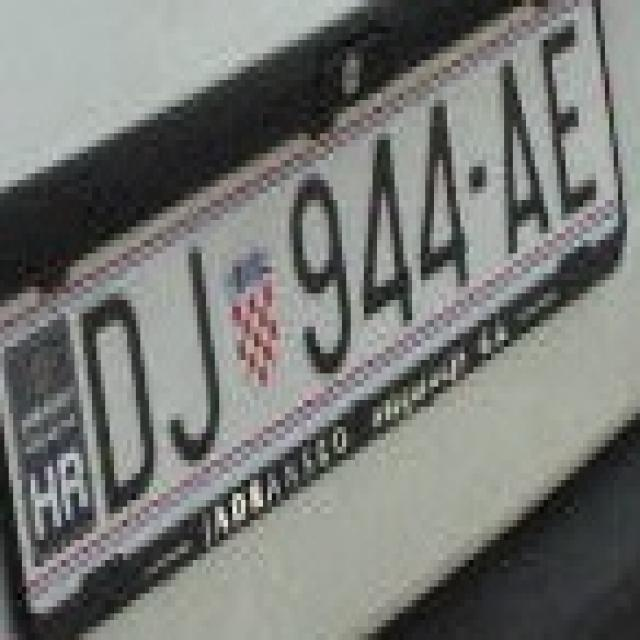4: (351, 126, 416, 346)
9: (280, 173, 364, 380)
A: (408, 100, 491, 313), (491, 46, 548, 266)
D: (84, 293, 175, 520)
E: (535, 13, 605, 220)
